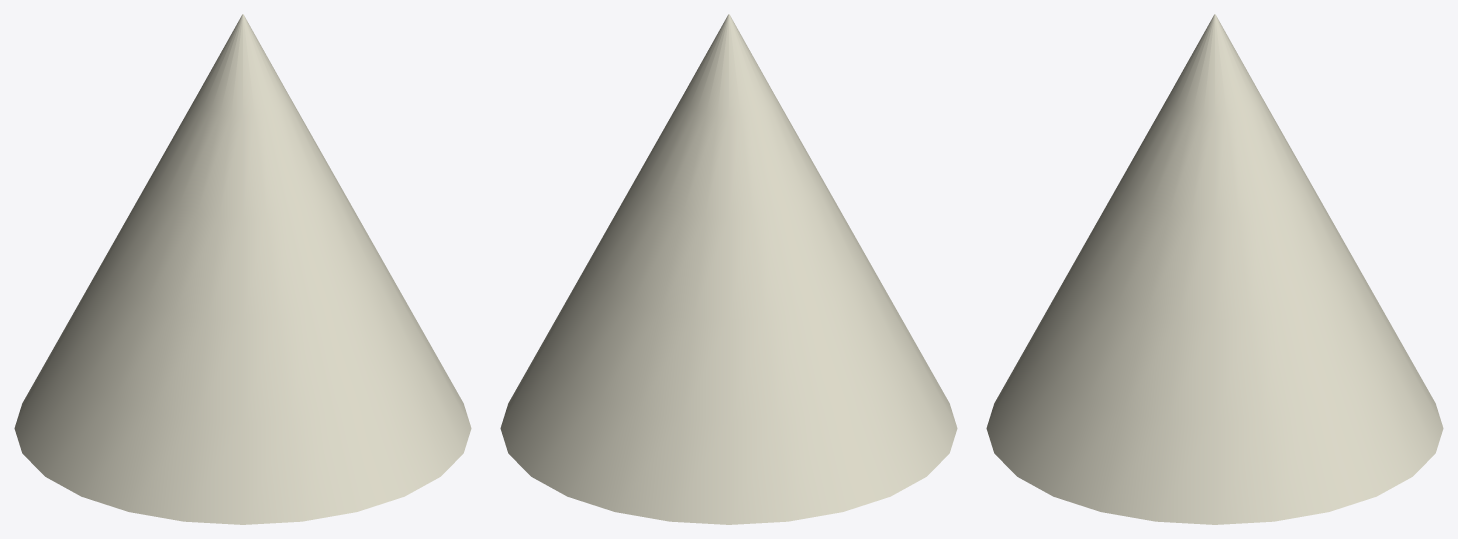
3 views of the same model, side by side, from view 1: azimuth 30°, elevation 25°; view 2: azimuth 150°, elevation 25°; view 3: azimuth 270°, elevation 25° (orthographic).
Visible parts, largest first — view 1: Shape_Cone; view 2: Shape_Cone; view 3: Shape_Cone.
Part boxes in pixels (x1,y1,x2,y2): Shape_Cone: (14, 14, 471, 524); Shape_Cone: (500, 14, 957, 524); Shape_Cone: (986, 14, 1443, 524).
Bounding box in the file's own units: 1 × 1 × 1.
